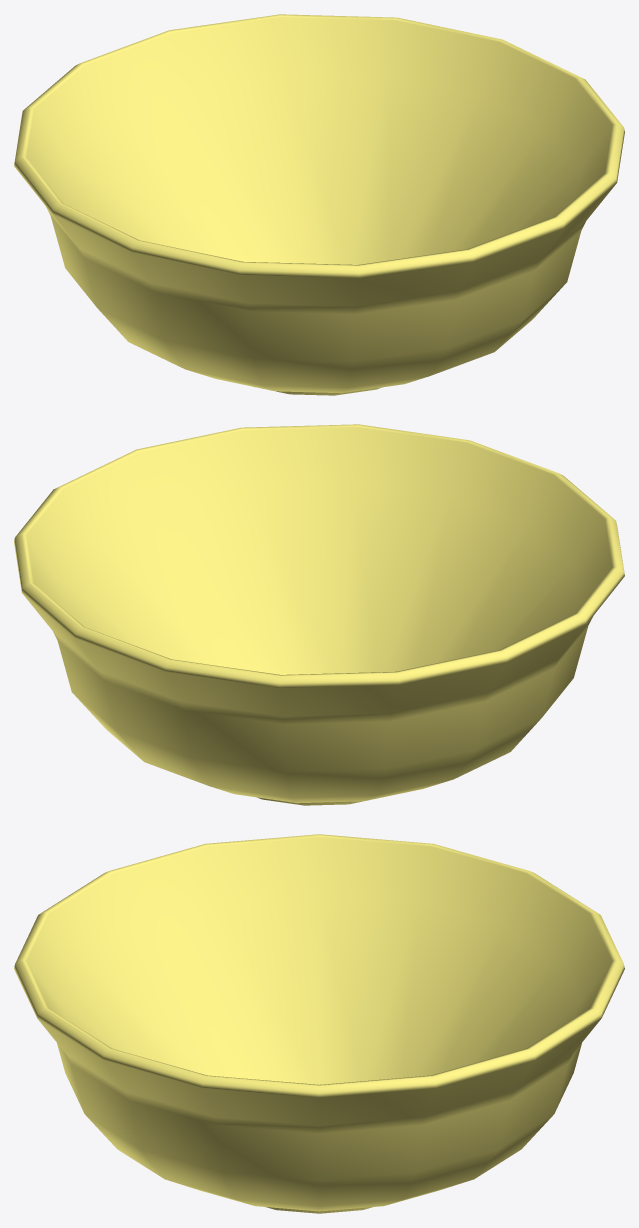
The model's file is Bowl03.fbx.
3 views of the same model, one above another, from view 1: azimuth 30°, elevation 25°; view 2: azimuth 150°, elevation 25°; view 3: azimuth 270°, elevation 25° (orthographic).
Parts seen in each view (by area): view 1: Bowl03_Modelling_v001:Bowl_Body; view 2: Bowl03_Modelling_v001:Bowl_Body; view 3: Bowl03_Modelling_v001:Bowl_Body.
Boxes of the visible parts, <box> form: Bowl03_Modelling_v001:Bowl_Body: <box>14,14,624,395</box>; Bowl03_Modelling_v001:Bowl_Body: <box>14,424,624,805</box>; Bowl03_Modelling_v001:Bowl_Body: <box>14,834,624,1213</box>.
Bounding box in the file's own units: 20.18 × 7.5 × 20.18.
1 material, 1 textured.
